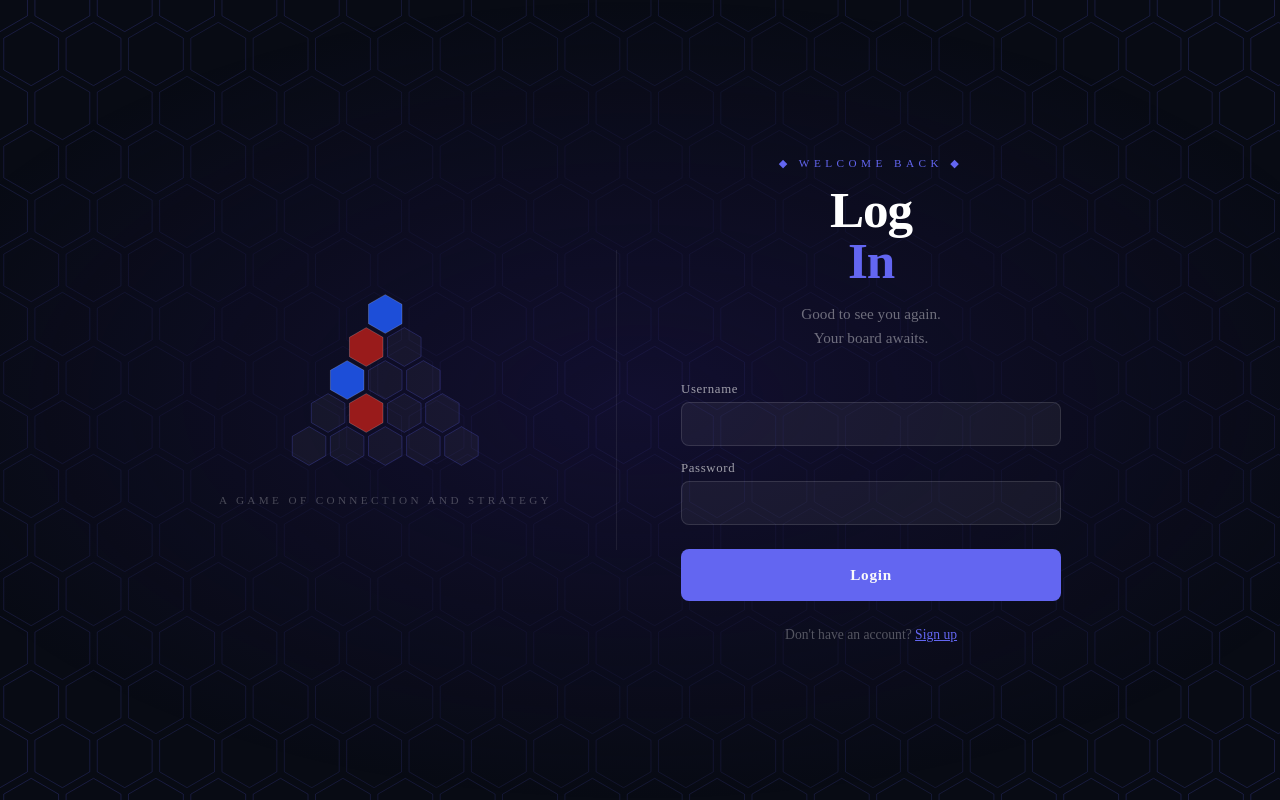
LoginForm › successful login stores token and navigates to menu
Type "pablo" into the field labelled "Username" at (871, 424), box [681,402,1061,446]
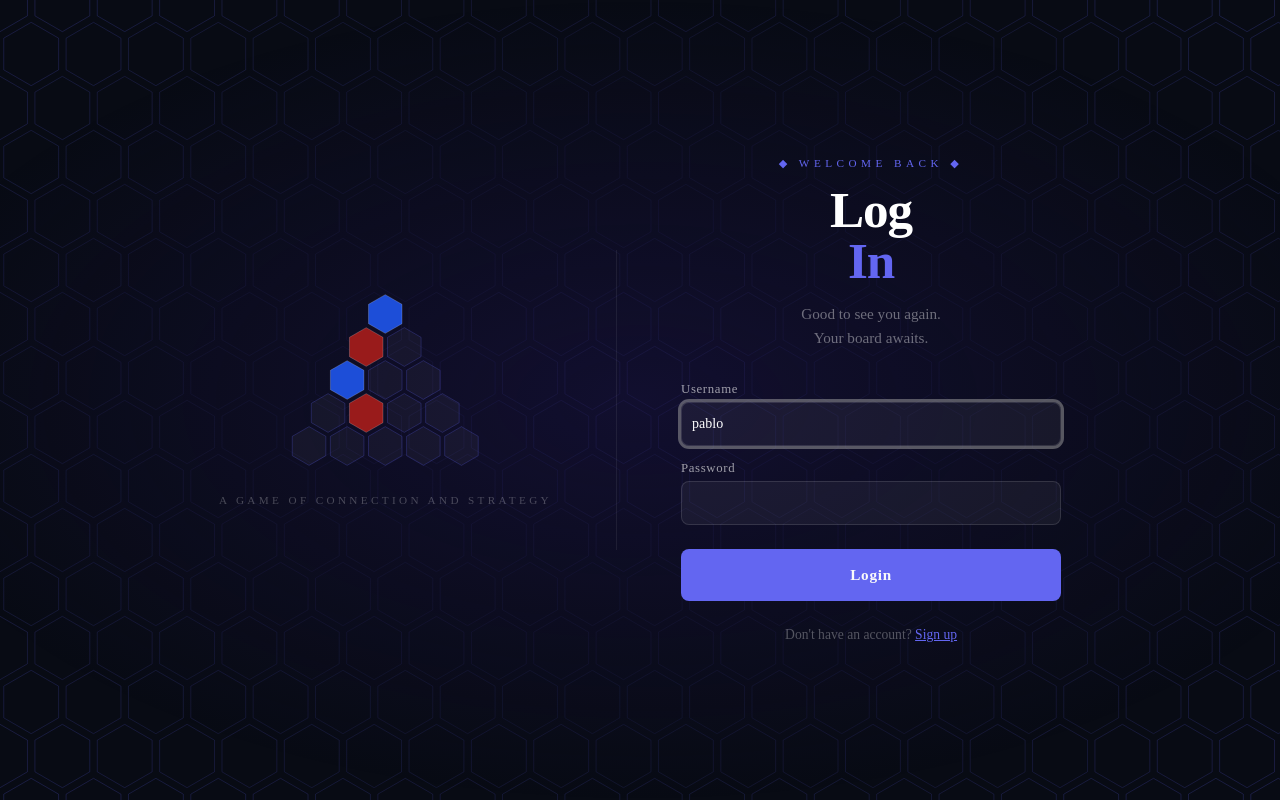
Type "secret123" into the password field labelled "Password" at (871, 503), box [681,481,1061,525]
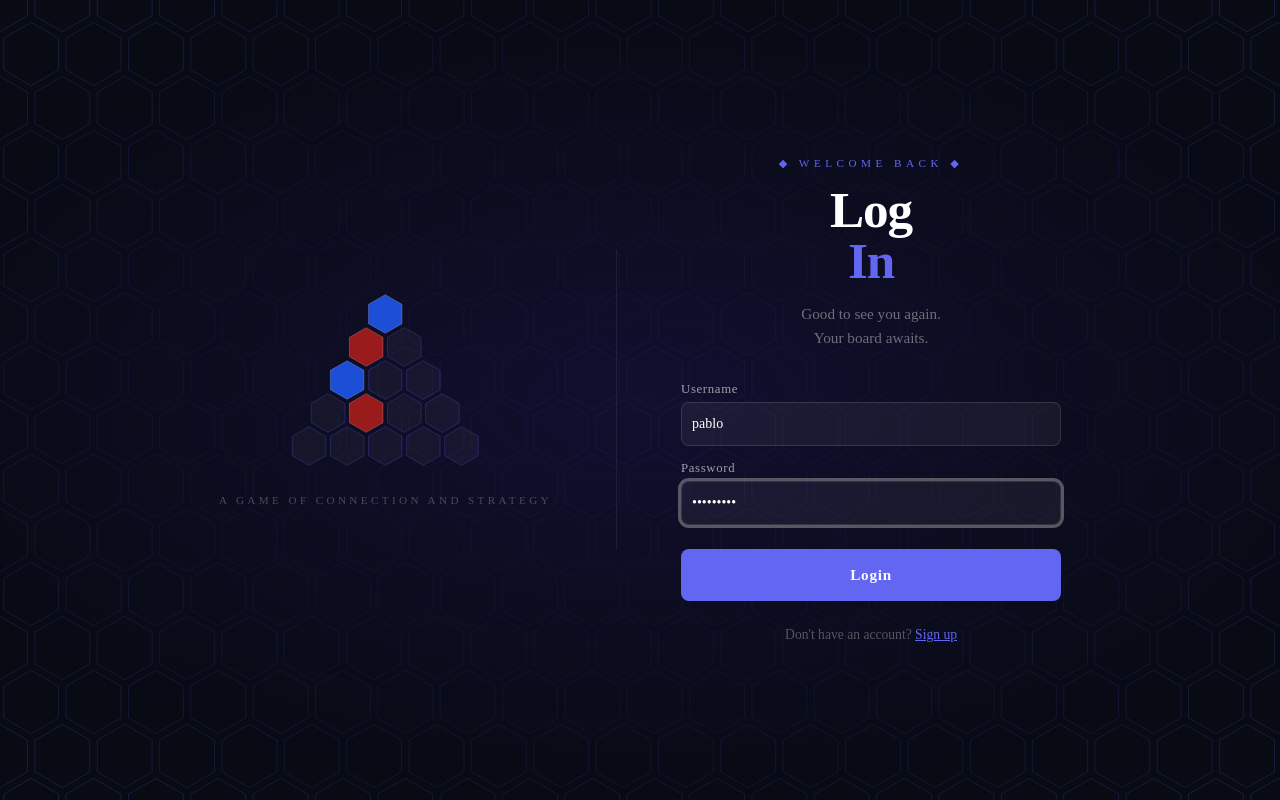
Click the button "Login" at (871, 575), box [681,549,1061,601]
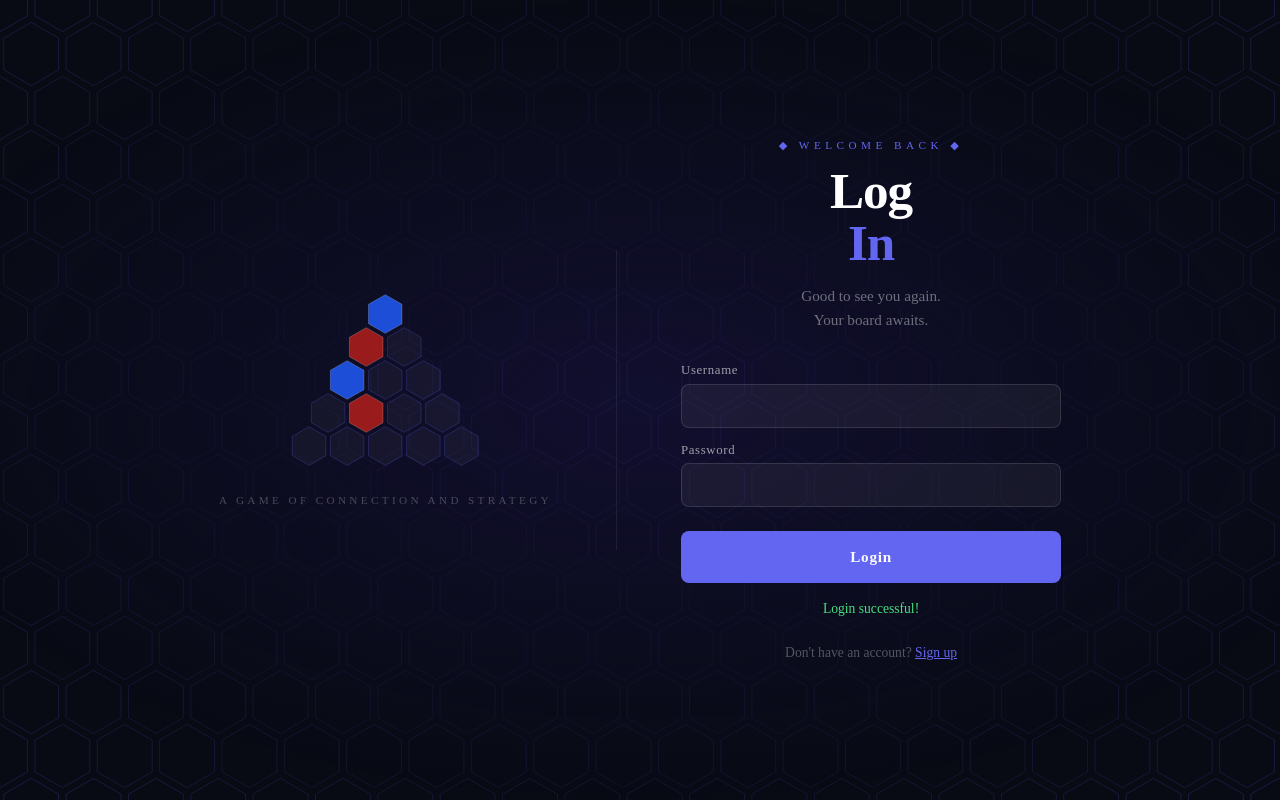
Result: the text "Login successful!" is shown at [823,601,919,616]
